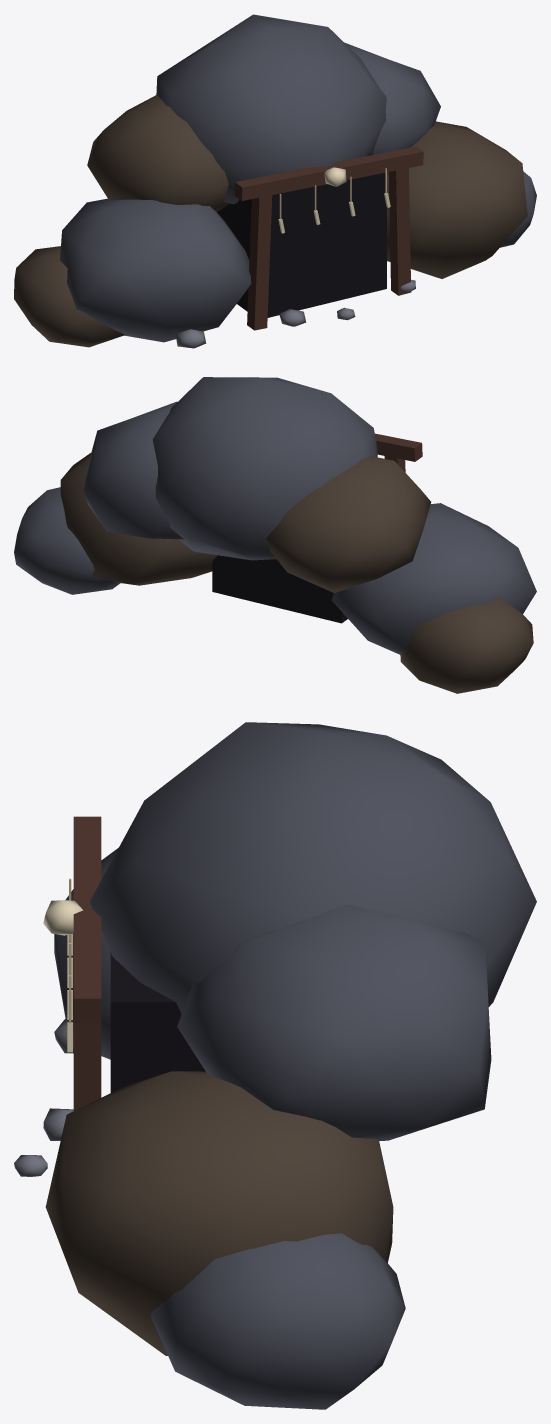
The model's file is warren_hole.glb.
The picture shows the model from 3 angles, top to bottom: view 1: azimuth 30°, elevation 25°; view 2: azimuth 150°, elevation 25°; view 3: azimuth 270°, elevation 25°; orthographic projection. The views are drawn at different scales.
Visible parts, largest first — view 1: mound0; view 2: mound0; view 3: mound0.
Part boxes in pixels (left/top/right/bottom): mound0: left=14, top=14, right=536, bottom=348; mound0: left=14, top=377, right=536, bottom=693; mound0: left=14, top=722, right=536, bottom=1409.
Bounding box in the file's own units: 9.35 × 4.65 × 4.52.
